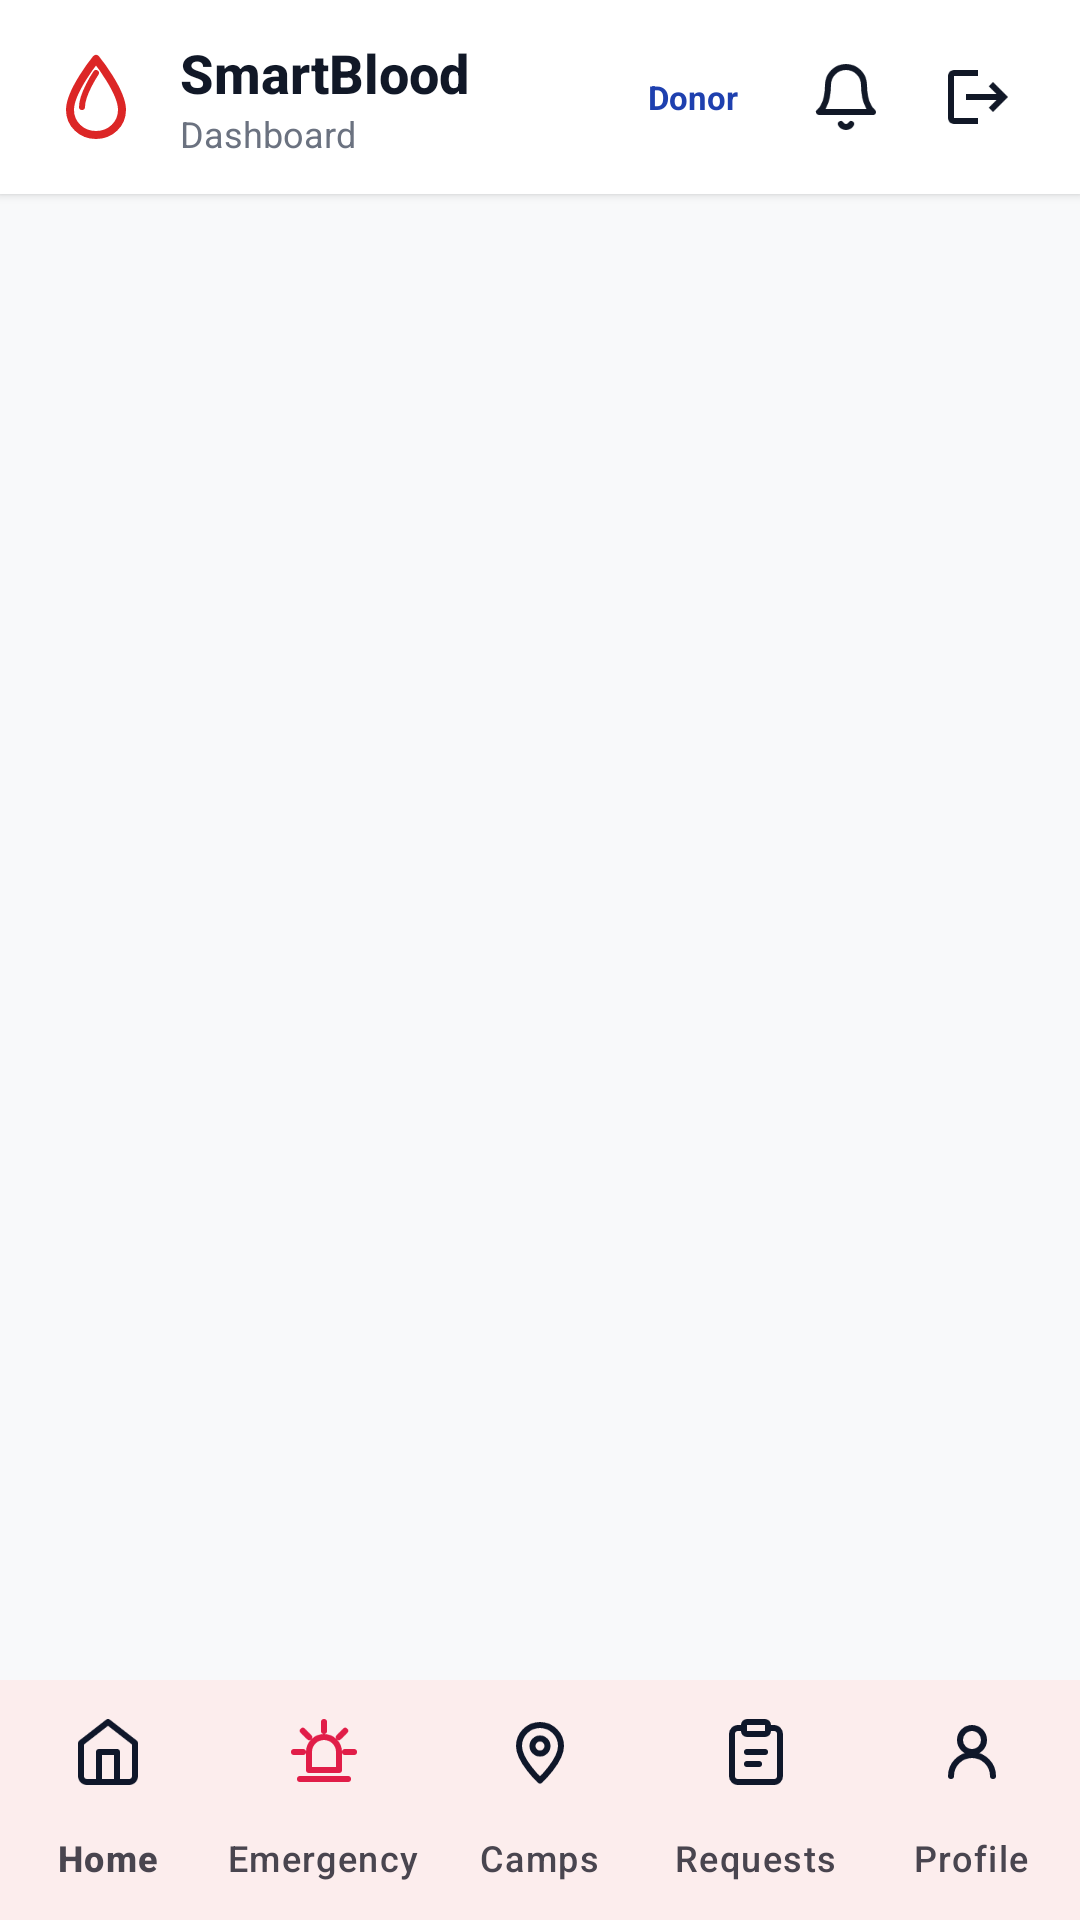

Where to tap for icons on this 1080×1920 app screen, as [x,y]:
Notifications: [845,97]
